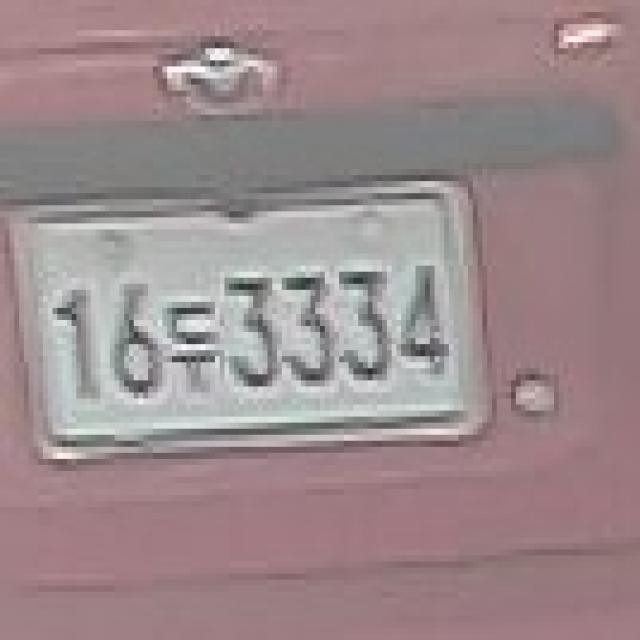1: (53, 272, 105, 411)
3: (215, 266, 286, 410), (334, 253, 396, 404), (277, 260, 339, 404)
4: (396, 242, 458, 404)
6: (105, 266, 167, 404)
du: (158, 284, 220, 411)
license_plate: (9, 157, 502, 483)
